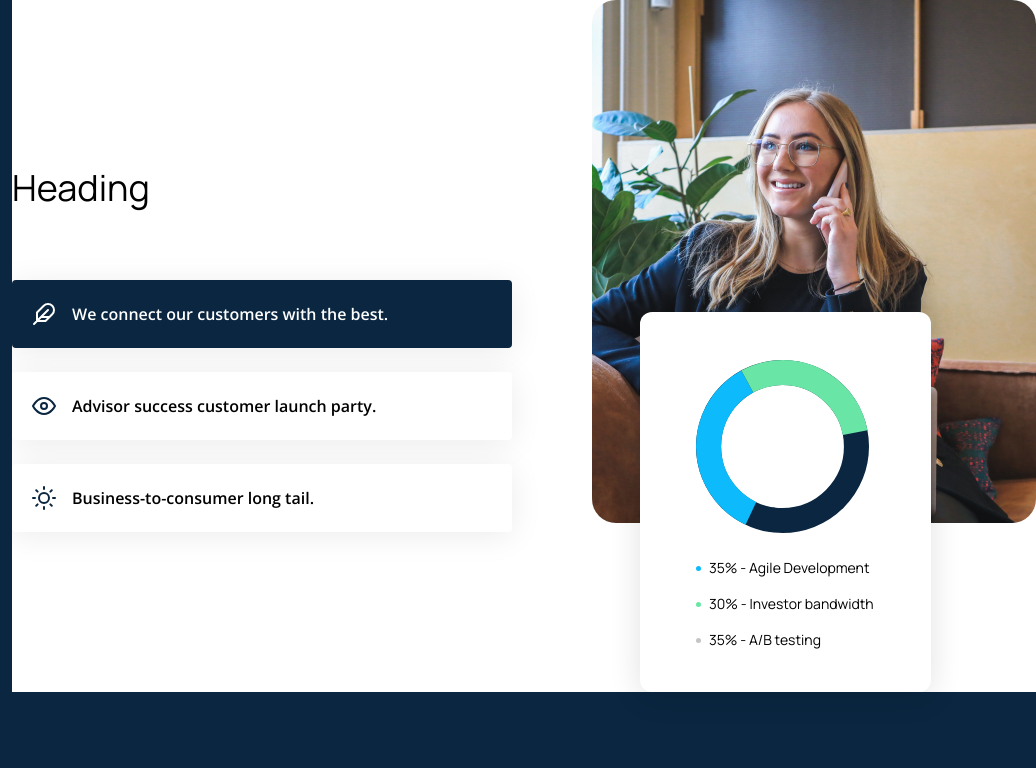
Test: FeatureTabs › swaps the photo and chart on the right when another tab is clicked
Click the tab "Advisor success customer launch party." at {"x": 262, "y": 406}, box [12,372,512,440]
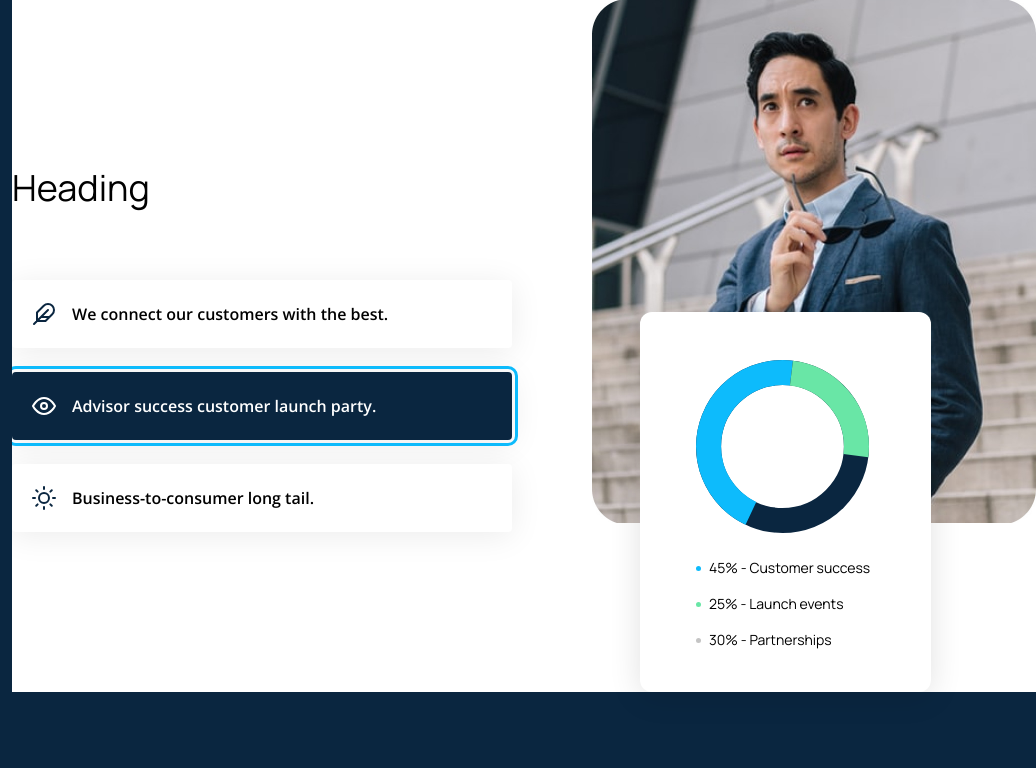
Expected: the picture named "Man in a blue suit standing on city steps" is shown, [592,0,1035,523]
